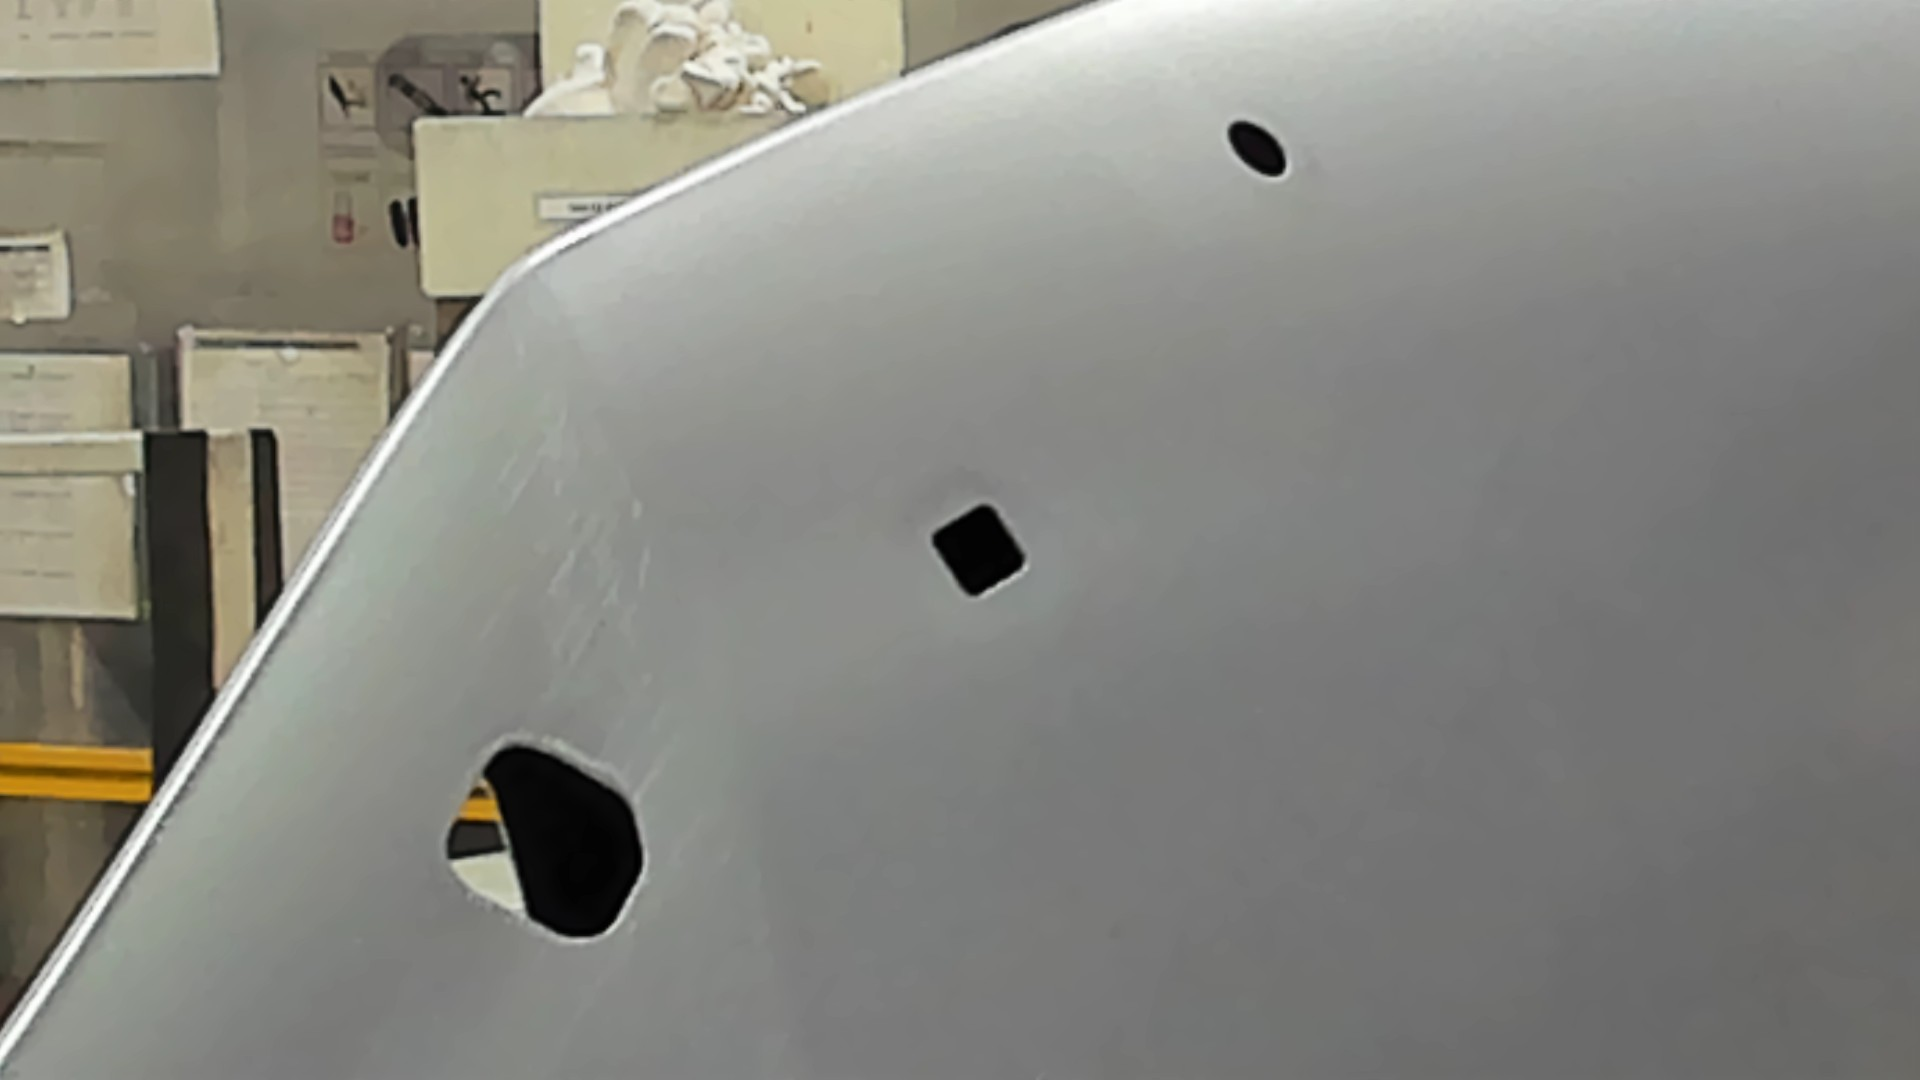capo: (1040, 198, 1920, 1080)
chico: (1222, 117, 1294, 182)
grande: (436, 736, 651, 949)
mediano: (924, 495, 1030, 604)
